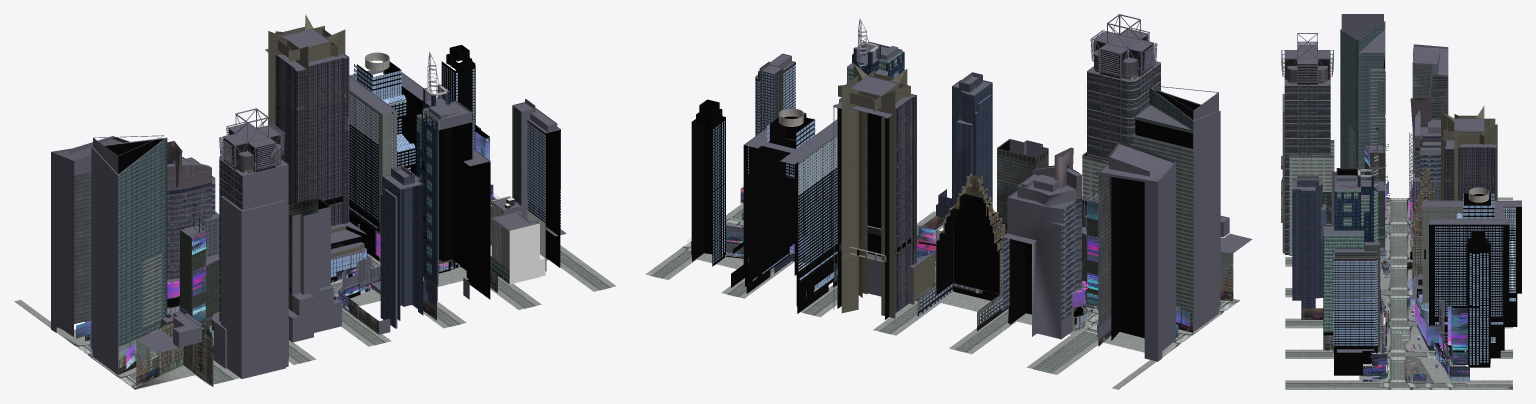
Rendered from citynewest-transformed.glb.
3 views of the same model, side by side, from view 1: azimuth 30°, elevation 25°; view 2: azimuth 150°, elevation 25°; view 3: azimuth 270°, elevation 25° (orthographic). The views are drawn at different scales.
Parts seen in each view (by area): view 1: Object_14, Object_180, Object_26, Object_41, Object_17, Object_32, Object_68, Object_186, Object_11; view 2: Object_26, Object_14, Object_180, Object_41, Object_32, Object_17, Object_186; view 3: Object_180, Object_14, Object_26, Object_41, Object_17, Object_32, Object_11, Object_186, Object_101.
Boxes of the visible parts, left/top/right/bottom form: Object_14: left=51, top=28, right=565, bottom=378; Object_180: left=74, top=55, right=490, bottom=368; Object_26: left=105, top=45, right=560, bottom=307; Object_41: left=85, top=14, right=560, bottom=386; Object_17: left=167, top=61, right=560, bottom=332; Object_32: left=14, top=196, right=616, bottom=389; Object_68: left=490, top=197, right=566, bottom=284; Object_186: left=76, top=224, right=453, bottom=368; Object_11: left=336, top=99, right=534, bottom=286; Object_26: left=691, top=67, right=1199, bottom=340; Object_14: left=683, top=14, right=1252, bottom=361; Object_180: left=839, top=41, right=1200, bottom=326; Object_41: left=755, top=29, right=1233, bottom=346; Object_32: left=645, top=203, right=1239, bottom=389; Object_17: left=713, top=65, right=1086, bottom=330; Object_186: left=774, top=200, right=1189, bottom=338; Object_180: left=1284, top=22, right=1496, bottom=332; Object_14: left=1281, top=14, right=1521, bottom=389; Object_26: left=1322, top=58, right=1521, bottom=380; Object_41: left=1281, top=59, right=1515, bottom=357; Object_17: left=1333, top=193, right=1515, bottom=381; Object_32: left=1285, top=197, right=1512, bottom=389; Object_11: left=1365, top=245, right=1469, bottom=380; Object_186: left=1364, top=146, right=1441, bottom=368; Object_101: left=1363, top=359, right=1422, bottom=381.
Bounding box in the file's own units: 29.8 × 15.29 × 15.74.
12 materials, 11 textured.
